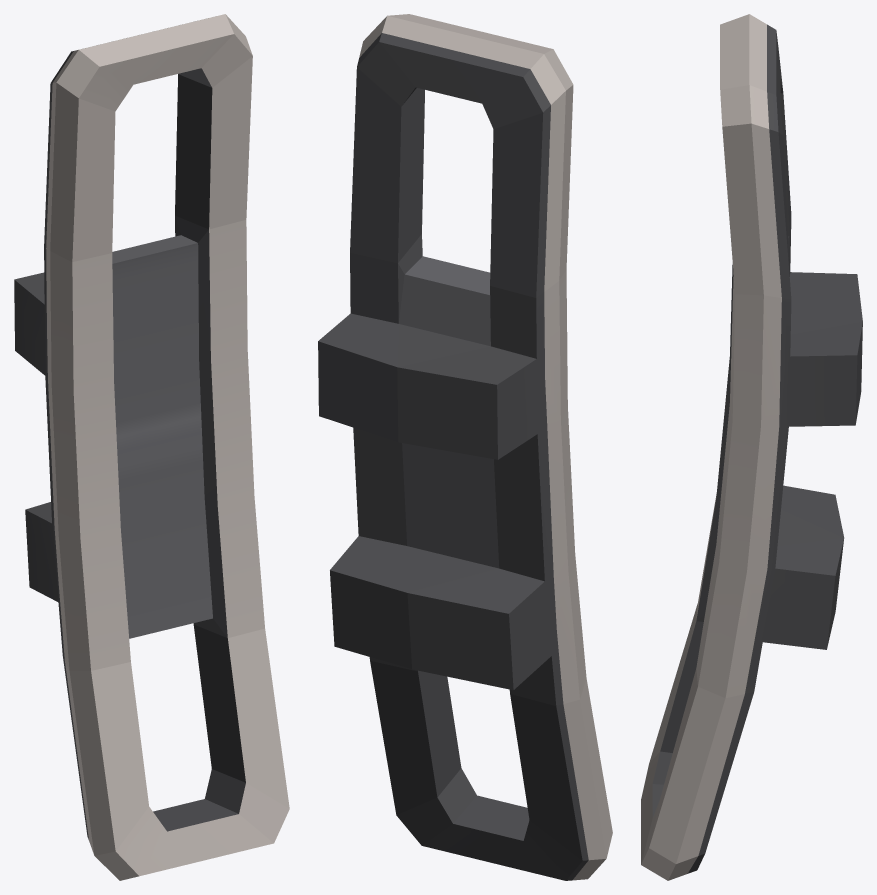
The model's file is SM_Prop_Street_Light_10.fbx.
3 views of the same model, side by side, from view 1: azimuth 30°, elevation 25°; view 2: azimuth 150°, elevation 25°; view 3: azimuth 270°, elevation 25° (orthographic). The views are drawn at different scales.
Parts seen in each view (by area): view 1: SM_Prop_Street_Light_10; view 2: SM_Prop_Street_Light_10; view 3: SM_Prop_Street_Light_10.
Boxes of the visible parts, <box> form: SM_Prop_Street_Light_10: <box>14,14,289,880</box>; SM_Prop_Street_Light_10: <box>318,14,612,880</box>; SM_Prop_Street_Light_10: <box>641,14,862,880</box>.
Size of the model in its own units: 28.84 by 116 by 29.44.
